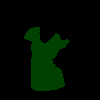t-shirt: (24, 27, 70, 91)
